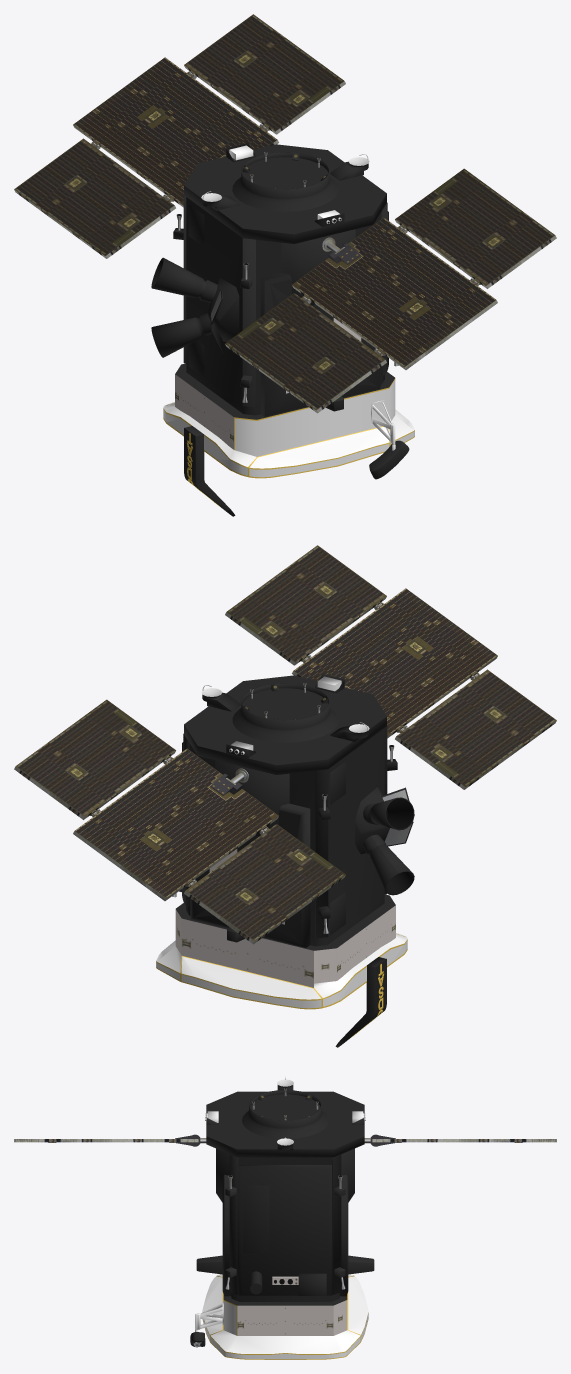
The model's file is CloudSat.glb.
The picture shows the model from 3 angles, top to bottom: view 1: azimuth 30°, elevation 25°; view 2: azimuth 150°, elevation 25°; view 3: azimuth 270°, elevation 25°; orthographic projection. The views are drawn at different scales.
Visible parts, largest first — view 1: shiny_panel, BUS, foil_silver, tex_01, foil_gold, metal; view 2: shiny_panel, BUS, tex_01, foil_silver, foil_gold, metal; view 3: BUS, foil_silver, tex_01, metal, foil_gold.
Boxes of the visible parts, x1=… form: shiny_panel: x1=14, y1=14, x2=555, y2=410; BUS: x1=151, y1=143, x2=409, y2=516; foil_silver: x1=163, y1=145, x2=414, y2=477; tex_01: x1=14, y1=65, x2=556, y2=449; foil_gold: x1=163, y1=378, x2=414, y2=506; metal: x1=176, y1=152, x2=398, y2=402; shiny_panel: x1=15, y1=545, x2=556, y2=941; BUS: x1=176, y1=674, x2=414, y2=1047; tex_01: x1=14, y1=596, x2=556, y2=987; foil_silver: x1=156, y1=676, x2=407, y2=1008; foil_gold: x1=156, y1=934, x2=407, y2=1037; metal: x1=172, y1=683, x2=394, y2=933; BUS: x1=190, y1=1085, x2=374, y2=1347; foil_silver: x1=195, y1=1111, x2=368, y2=1359; tex_01: x1=14, y1=1139, x2=556, y2=1335; metal: x1=175, y1=1088, x2=395, y2=1346; foil_gold: x1=202, y1=1275, x2=368, y2=1359.
Size of the model in its own units: 2.21 by 2.95 by 5.08.
Materials: 7 (4 with a texture image).
